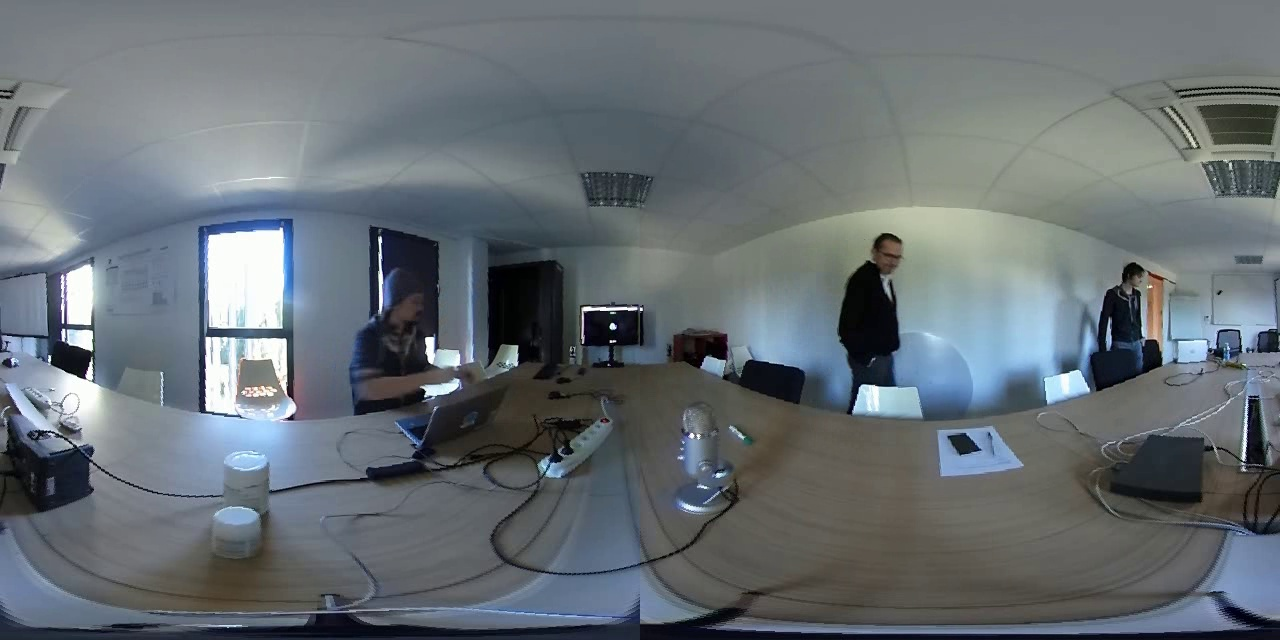person: (344, 252, 456, 398), (829, 227, 934, 380), (1091, 253, 1168, 353)
